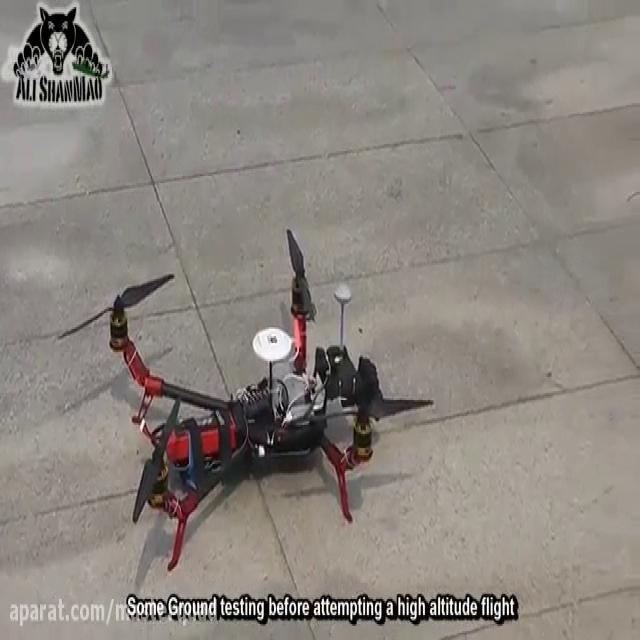drone: (53, 224, 438, 578)
